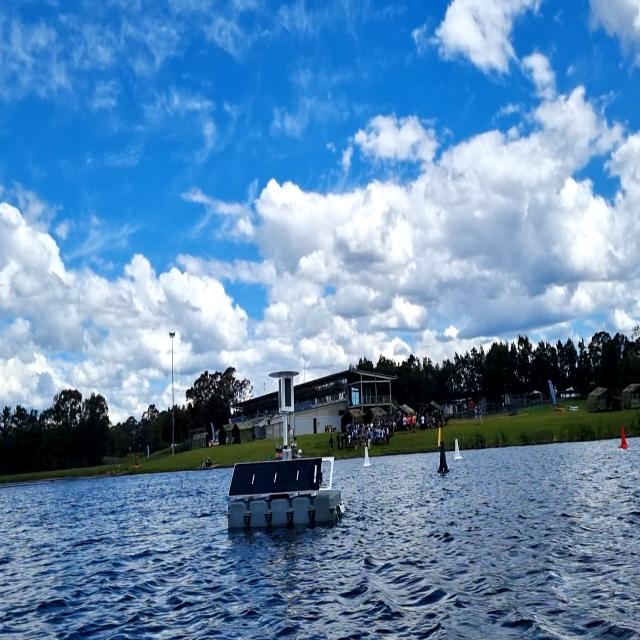led: (278, 378, 292, 409), (282, 375, 293, 409), (279, 379, 282, 409)
